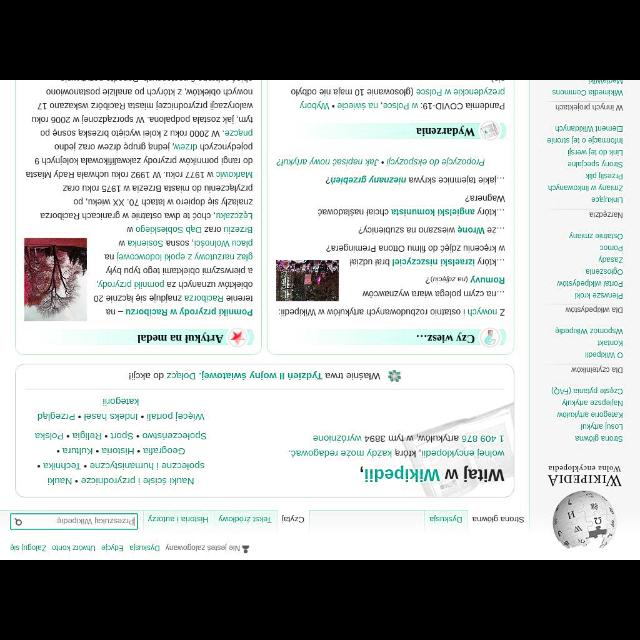backgroundimage: (19, 389, 511, 496)
icon: (13, 516, 24, 526), (240, 544, 250, 554), (74, 476, 80, 484), (133, 432, 141, 438), (138, 414, 146, 420), (64, 432, 70, 440), (81, 463, 87, 469), (76, 414, 82, 420), (94, 448, 100, 454), (102, 432, 108, 438), (136, 448, 140, 454), (37, 464, 41, 470), (57, 450, 61, 454)
image: (540, 464, 630, 552), (24, 236, 84, 320), (274, 261, 340, 301), (480, 124, 502, 140), (384, 369, 404, 385), (480, 332, 500, 346), (230, 328, 247, 344), (614, 105, 628, 115)
input: (11, 513, 138, 529)
text: (23, 88, 253, 220), (275, 152, 507, 254), (31, 397, 209, 488), (92, 224, 254, 320), (283, 81, 507, 109), (288, 434, 507, 456), (355, 462, 507, 482), (358, 276, 508, 296), (274, 306, 508, 318), (124, 372, 380, 382), (9, 544, 238, 552), (348, 256, 506, 266), (553, 82, 625, 96), (554, 324, 624, 338), (416, 124, 474, 140), (548, 385, 622, 397), (136, 334, 222, 344), (554, 102, 616, 115), (54, 517, 134, 527), (556, 409, 622, 421), (548, 183, 624, 193), (554, 278, 624, 288), (545, 136, 625, 144), (148, 514, 210, 524), (413, 334, 475, 344), (565, 232, 625, 242), (568, 159, 626, 169), (560, 398, 624, 407), (554, 124, 624, 132), (217, 516, 271, 526), (472, 515, 526, 525), (568, 147, 622, 157), (572, 434, 624, 444), (572, 424, 624, 434), (574, 292, 624, 302), (564, 307, 624, 315), (570, 366, 624, 374), (584, 350, 626, 360), (584, 267, 626, 277), (582, 171, 624, 181), (588, 209, 626, 219), (276, 514, 306, 526), (430, 515, 464, 525), (600, 242, 624, 254), (597, 254, 625, 264), (591, 196, 623, 204), (594, 338, 622, 347)
toolbar: (1, 509, 529, 556)
